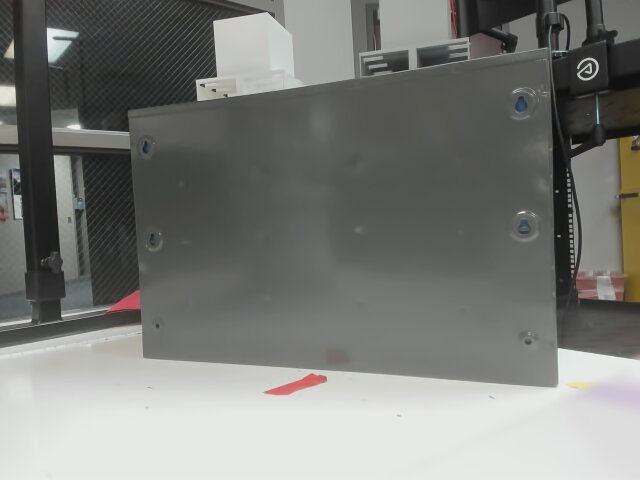grey pallet: (349, 0, 487, 80)
white pallet: (190, 10, 310, 107)
